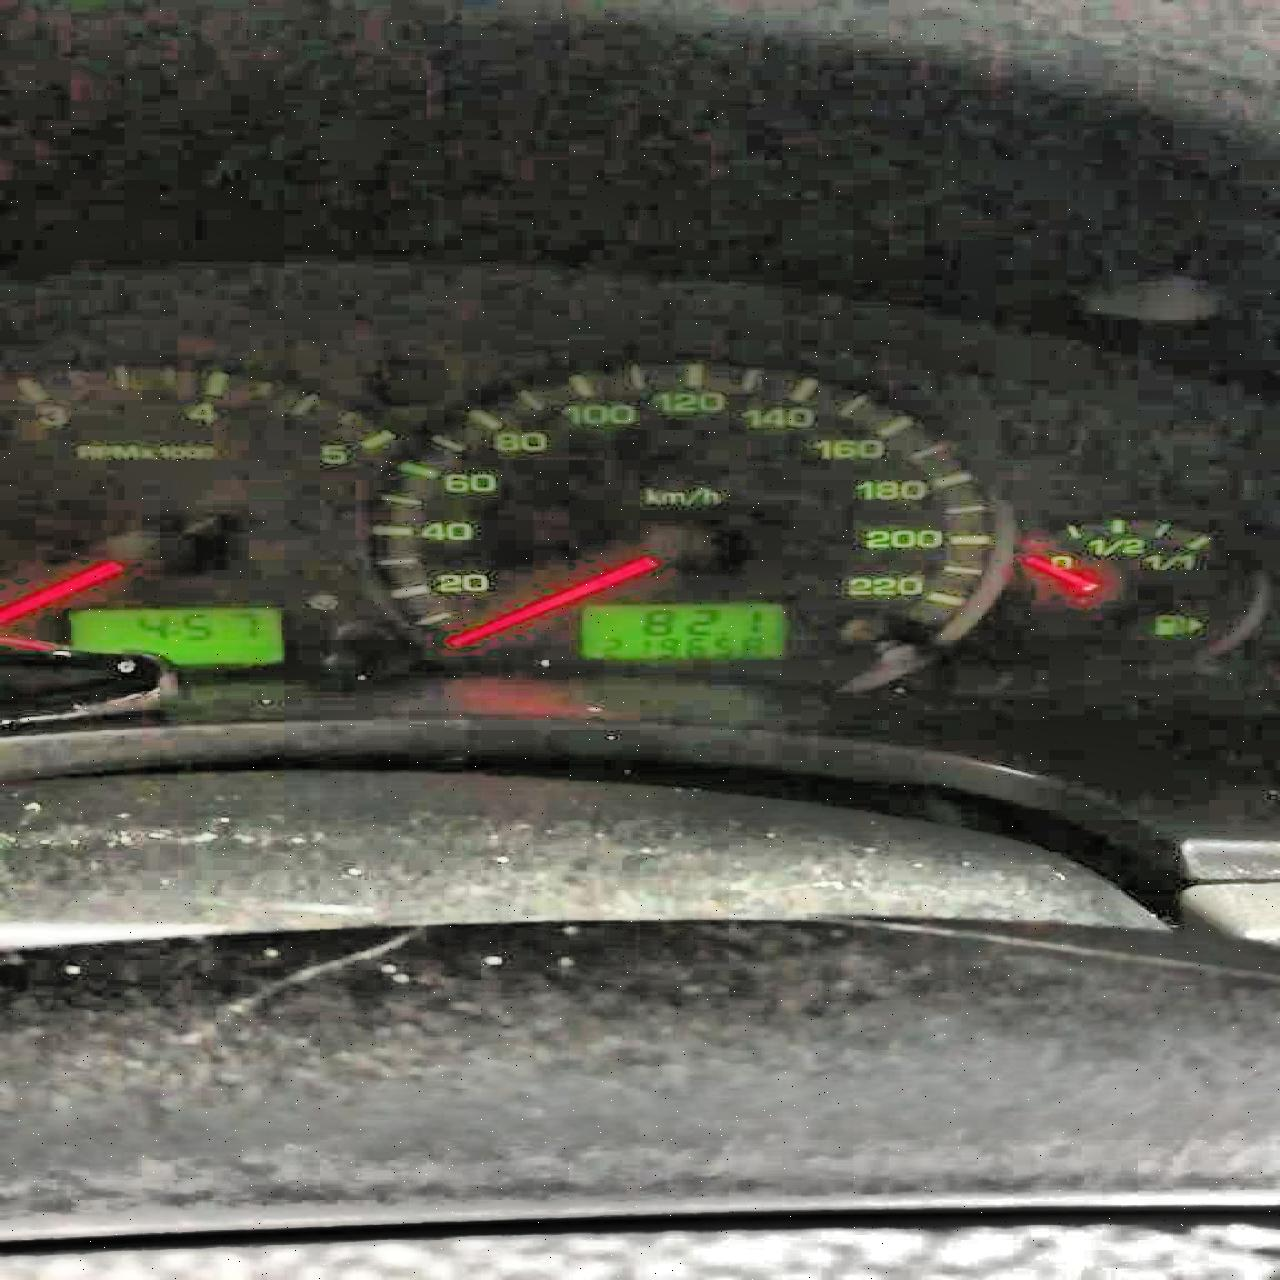-: (715, 626, 734, 635)
1: (747, 607, 762, 633), (635, 638, 652, 658)
2: (685, 607, 714, 633), (600, 635, 620, 655)
5: (712, 636, 736, 656)
6: (685, 635, 704, 656)
8: (640, 607, 675, 635), (740, 635, 764, 655)
9: (653, 636, 678, 656)
odometer: (583, 604, 787, 659)
